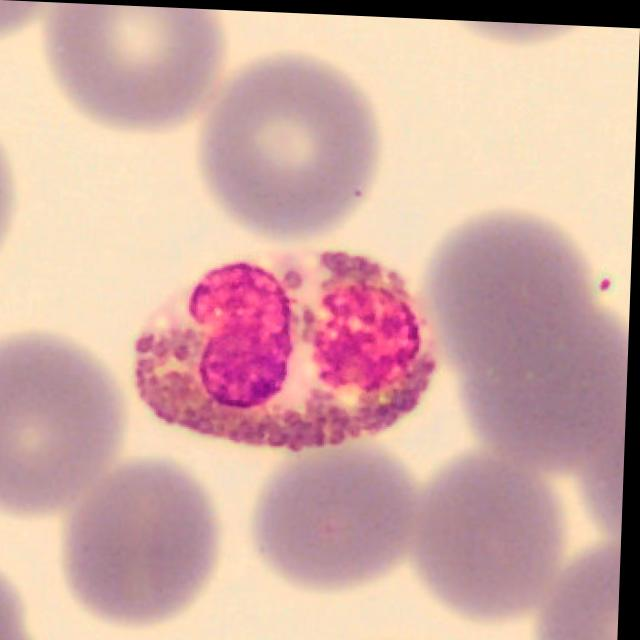Eosinofilo: (137, 249, 437, 445)
